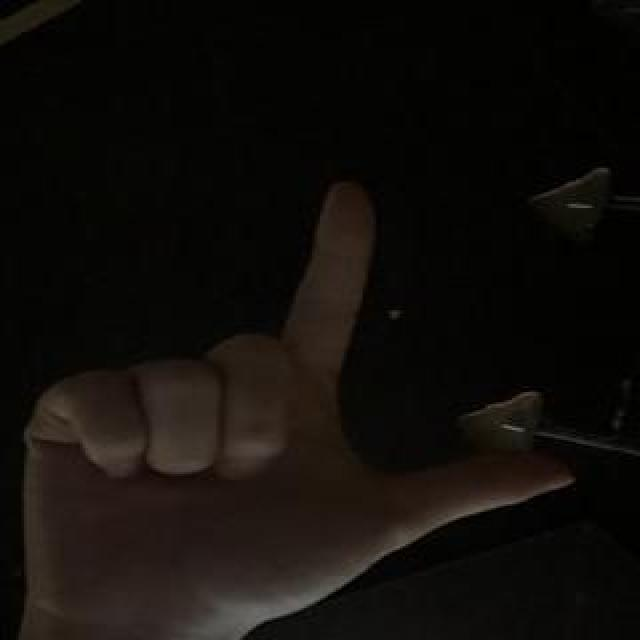L: (3, 144, 608, 640)
